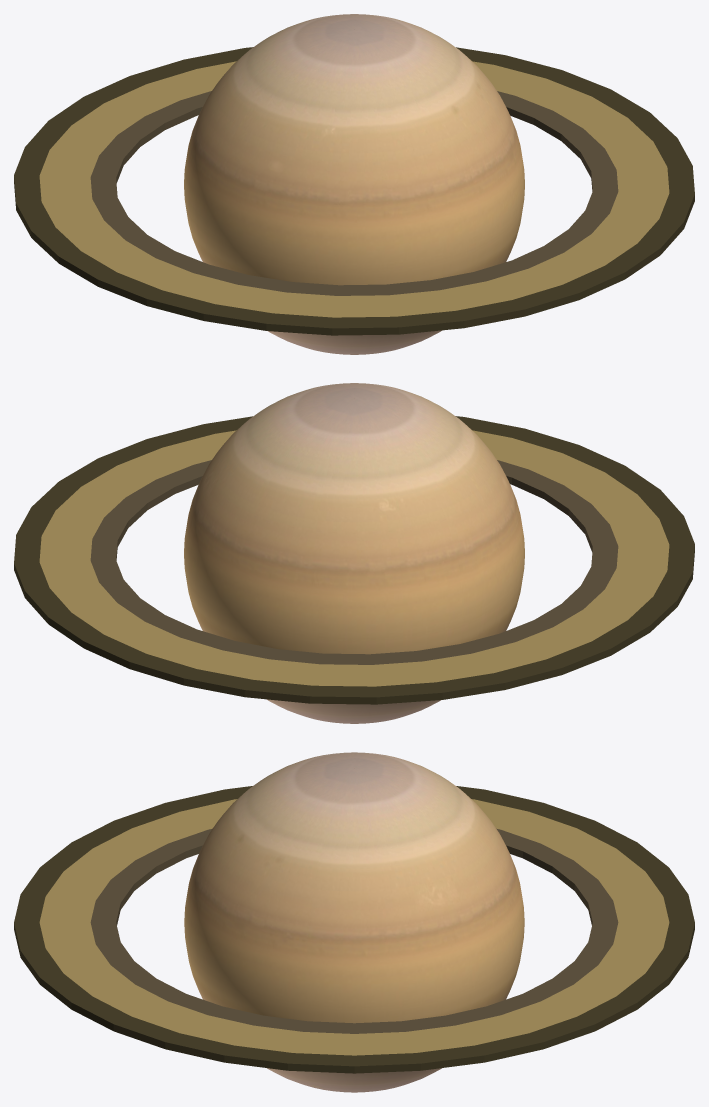
File: saturn.glb
3 renders of one model, top to bottom at view 1: azimuth 30°, elevation 25°; view 2: azimuth 150°, elevation 25°; view 3: azimuth 270°, elevation 25°, orthographic.
Parts seen in each view (by area): view 1: Sphere; view 2: Sphere; view 3: Sphere.
Part boxes in pixels (bbox=[...]): Sphere: bbox=[14, 14, 694, 354]; Sphere: bbox=[14, 383, 694, 723]; Sphere: bbox=[14, 752, 694, 1092].
Bounding box in the file's own units: 4 × 2 × 4.
4 materials, 1 textured.
